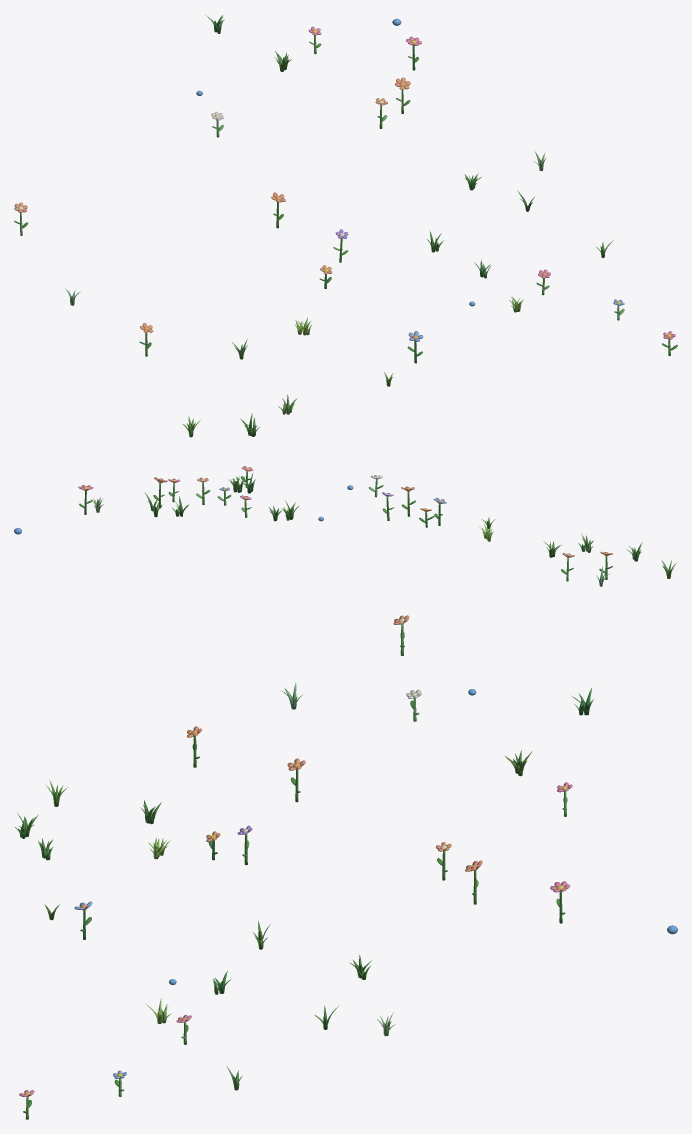
Rendered from W4_FloraRing_10_7.fbx.
3 views of the same model, one above another, from view 1: azimuth 30°, elevation 25°; view 2: azimuth 150°, elevation 25°; view 3: azimuth 270°, elevation 25° (orthographic). The views are drawn at different scales.
Parts seen in each view (by area): view 1: W4_FloraRing_10_7; view 2: W4_FloraRing_10_7; view 3: W4_FloraRing_10_7.
Part boxes in pixels (left/top/right/bottom): W4_FloraRing_10_7: left=14, top=15, right=677, bottom=437; W4_FloraRing_10_7: left=14, top=466, right=677, bottom=586; W4_FloraRing_10_7: left=15, top=615, right=677, bottom=1119.
Bounding box in the file's own units: 3.97 × 1.66 × 3.45.
